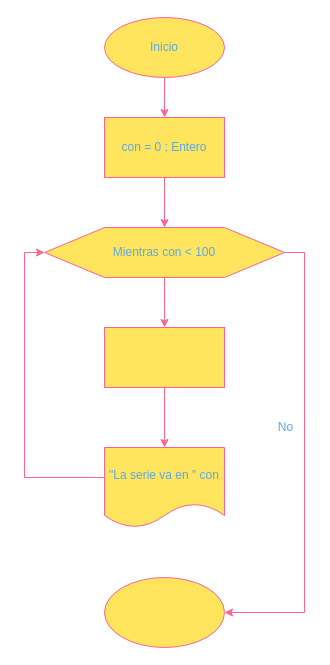
This 330x665 diagram has some shape labels left out. The shapes that lost their labels are listed below. From the top down, each one's centre as x and y in pixels, then its label:
At point 164,357: "con = con + 2".
At point 164,612: "Fin".
